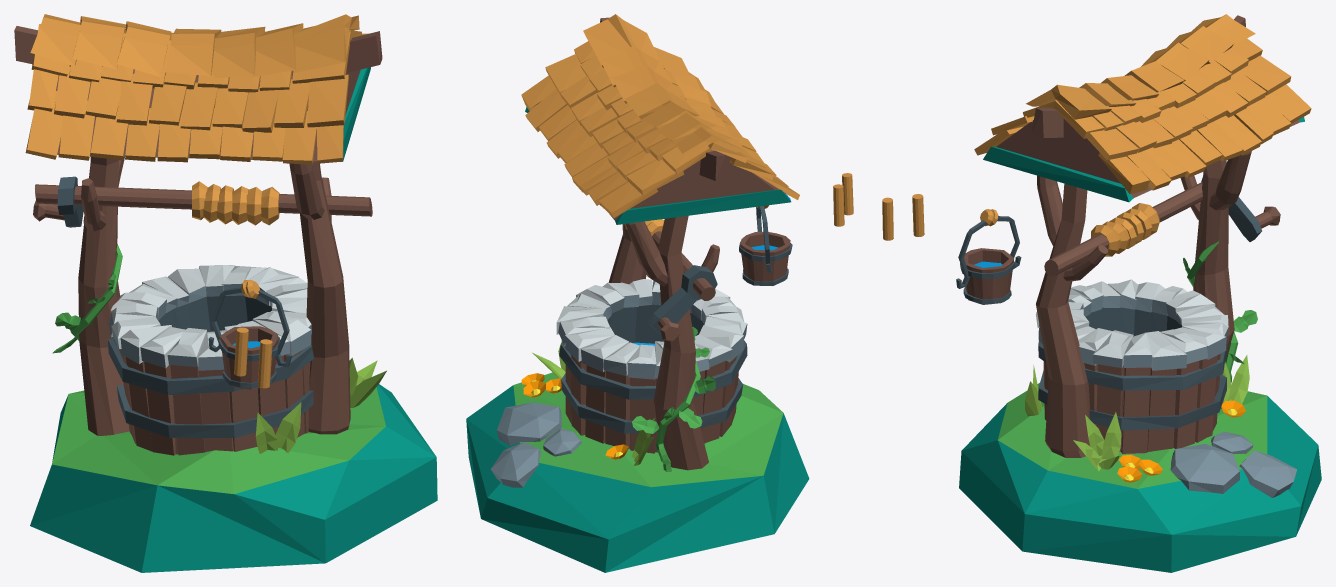
The model's file is well.obj.
3 renders of one model, left to right at view 1: azimuth 30°, elevation 25°; view 2: azimuth 150°, elevation 25°; view 3: azimuth 270°, elevation 25°, orthographic. The views are drawn at different scales.
Visible parts, largest first — view 1: group1293293119, group1784896143, group1816269119, group1378999907, group712474116, group1463751419, group784225283, group819284552, group904038137, group543979763, group1636832775, group156962315 (+39 smaller); view 2: group1293293119, group1784896143, group1378999907, group1984699503, group1463751419, group644428560, group784225283, group511529357, group464703084, group156962315, group904038137, group1816269119 (+24 smaller); view 3: group1293293119, group1784896143, group1816269119, group1984699503, group1378999907, group1463751419, group644428560, group712474116, group464703084, group784225283, group819284552, group1636832775 (+29 smaller).
Boxes of the visible parts, x1,y1,x2,y2 form: group1293293119: (30, 384, 437, 572); group1784896143: (108, 265, 313, 455); group1816269119: (289, 161, 350, 434); group1378999907: (78, 156, 129, 435); group712474116: (35, 184, 372, 216); group1463751419: (208, 287, 291, 389); group784225283: (293, 14, 359, 72); group819284552: (116, 21, 171, 76); group904038137: (165, 28, 221, 75); group543979763: (212, 26, 265, 77); group1636832775: (72, 16, 125, 69); group156962315: (251, 23, 303, 77); group1293293119: (466, 372, 809, 572); group1784896143: (556, 279, 747, 453); group1378999907: (625, 215, 719, 470); group1984699503: (525, 107, 791, 224); group1463751419: (739, 206, 792, 285); group644428560: (497, 402, 561, 445); group784225283: (583, 14, 661, 67); group511529357: (647, 265, 717, 335); group464703084: (490, 442, 541, 487); group156962315: (600, 46, 672, 87); group904038137: (624, 83, 699, 119); group1816269119: (599, 204, 646, 284); group1293293119: (959, 383, 1321, 572); group1784896143: (1036, 279, 1228, 453); group1816269119: (1036, 175, 1107, 457); group1984699503: (983, 117, 1304, 202); group1378999907: (1180, 151, 1251, 361); group1463751419: (956, 216, 1021, 304); group644428560: (1170, 443, 1239, 493); group712474116: (1044, 182, 1202, 276); group464703084: (1239, 450, 1296, 497); group784225283: (1026, 84, 1111, 119); group819284552: (1141, 42, 1209, 81); group1636832775: (1167, 26, 1234, 64).
Bounding box in the file's own units: 0.4501 × 0.5819 × 0.5106.
